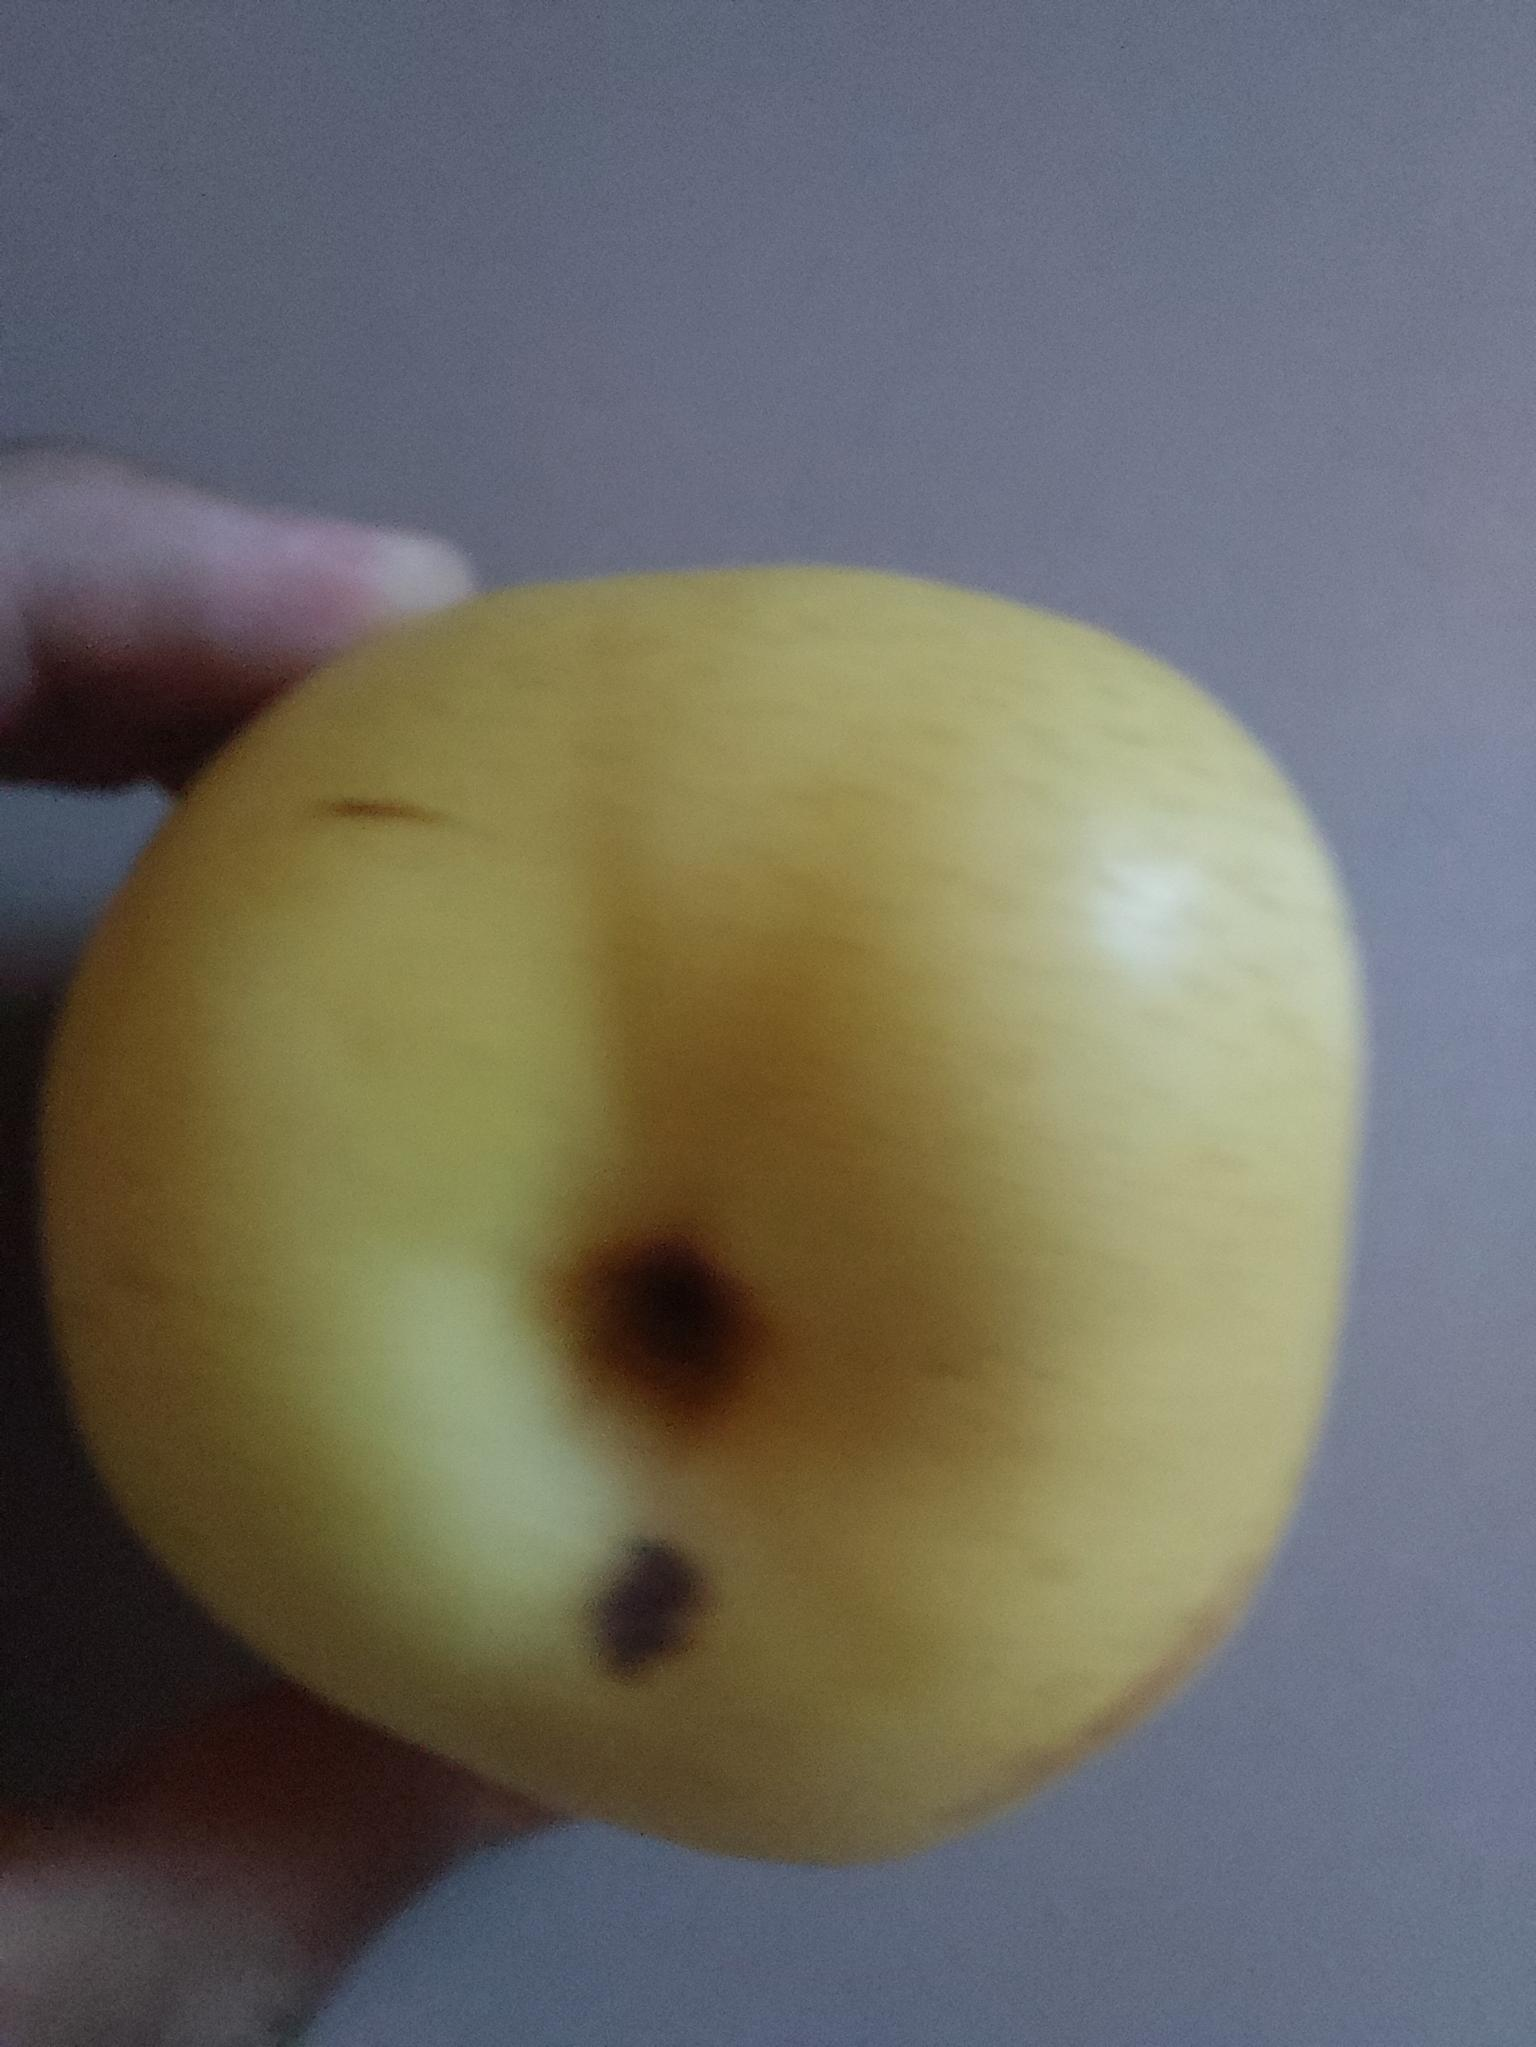Good Pear: (36, 566, 1362, 1862)
